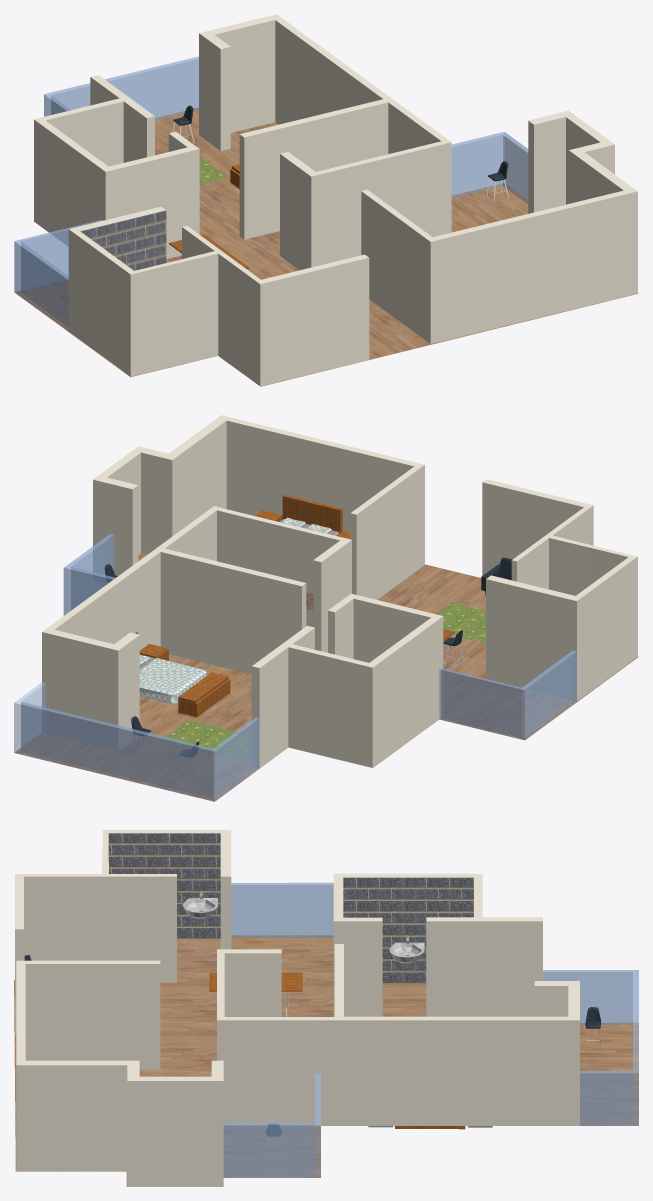
File: 2bhkfullDraco.gltf
3 renders of one model, top to bottom at view 1: azimuth 30°, elevation 25°; view 2: azimuth 150°, elevation 25°; view 3: azimuth 270°, elevation 25°, orthographic. The views are drawn at different scales.
Parts seen in each view (by area): view 1: SketchUp; view 2: SketchUp; view 3: SketchUp, skp3253.
Boxes of the visible parts, x1=… form: SketchUp: x1=14, y1=14, x2=638, y2=386; SketchUp: x1=14, y1=415, x2=638, y2=801; SketchUp: x1=14, y1=830, x2=638, y2=1186; skp3253: x1=209, y1=972, x2=302, y2=1016.
Bounding box in the file's own units: 10.19 × 2.1 × 10.7.
Materials: 21 (14 with a texture image).
